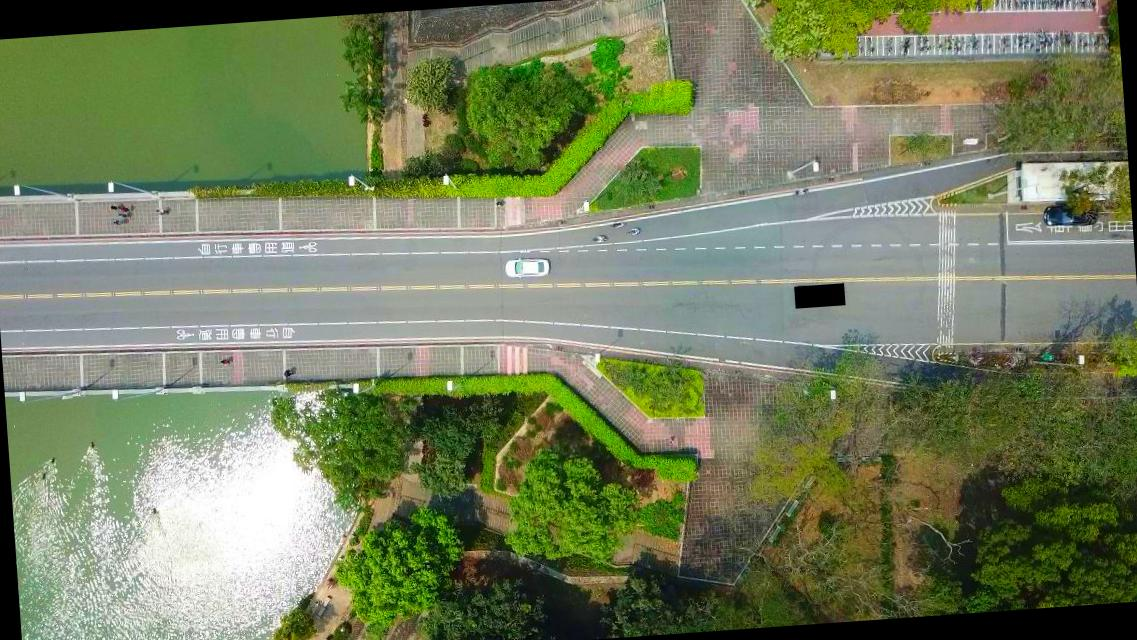vehicle: (1042, 202, 1097, 229), (504, 256, 549, 280)
